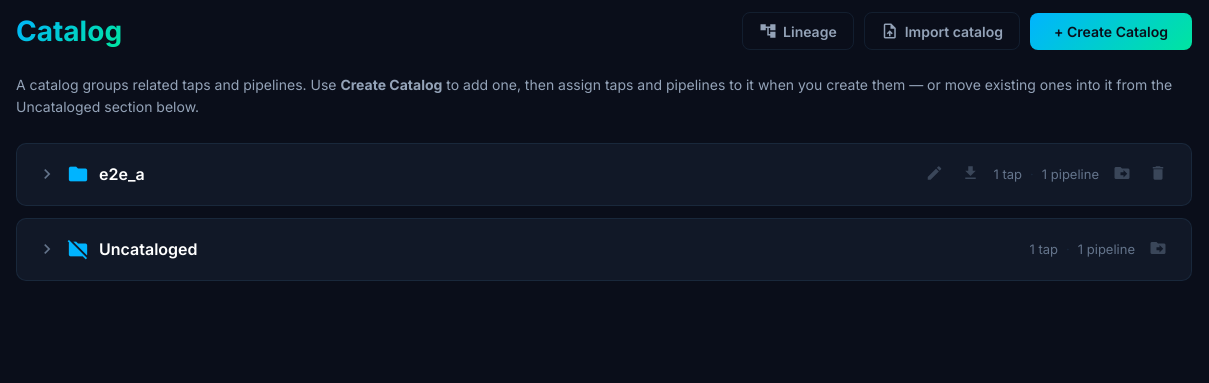
Test: DataCatalogComponent — catalog rename and delete › a 207 from delete renders each failed item with its error and reloads the list
Expected: the element with class "catalog-card" showing "e2e_a 1 tap · 1 pipeline" is shown, [16,143,1192,206]
Click the button with class "delete-catalog-btn" at (1158, 174), box [1145,160,1171,189]
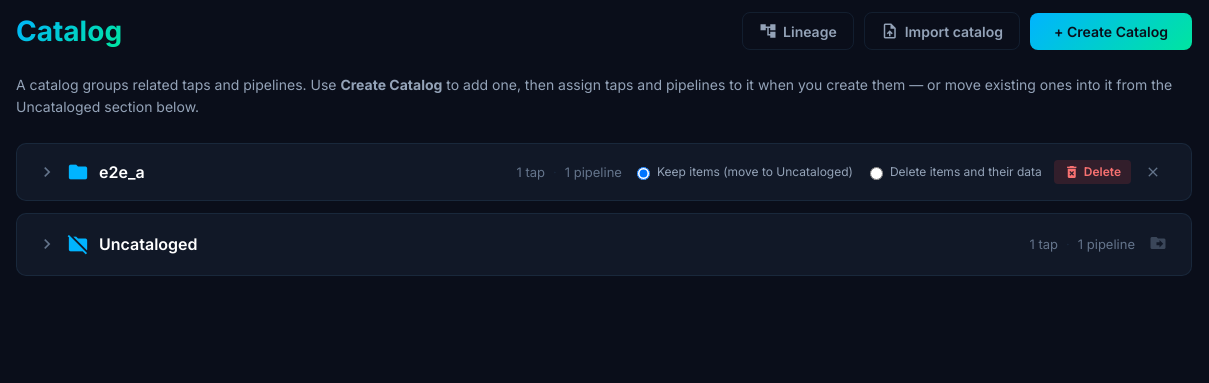
Now the element with class "delete-confirm" is shown, box [632,160,1171,184]
Click the button with class "del-yes" at (1092, 172), box [1054,160,1131,184]
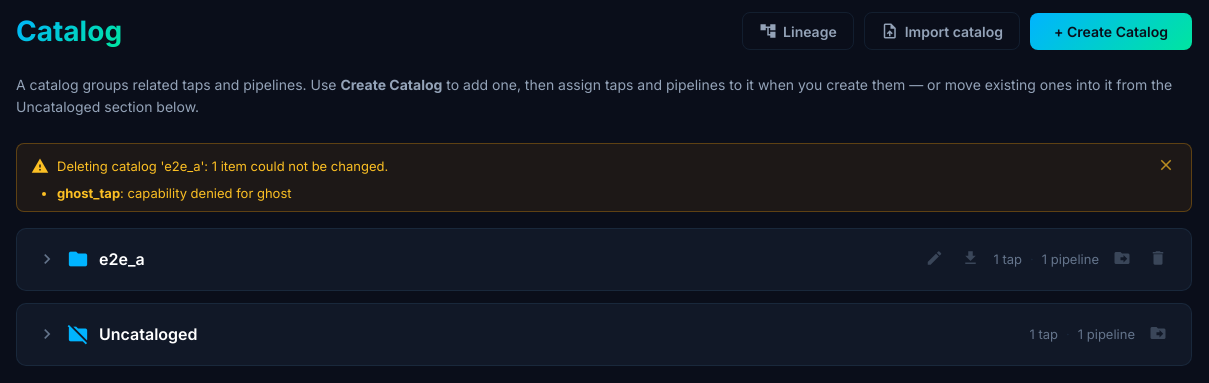
Now the text "ghost_tap" is shown, box [57,185,120,201]
Now the text "capability denied for ghost" is shown, box [120,185,292,201]
